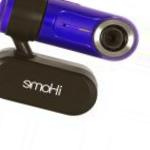webcam: (1, 1, 143, 67)
